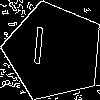I: (29, 26, 47, 74)
